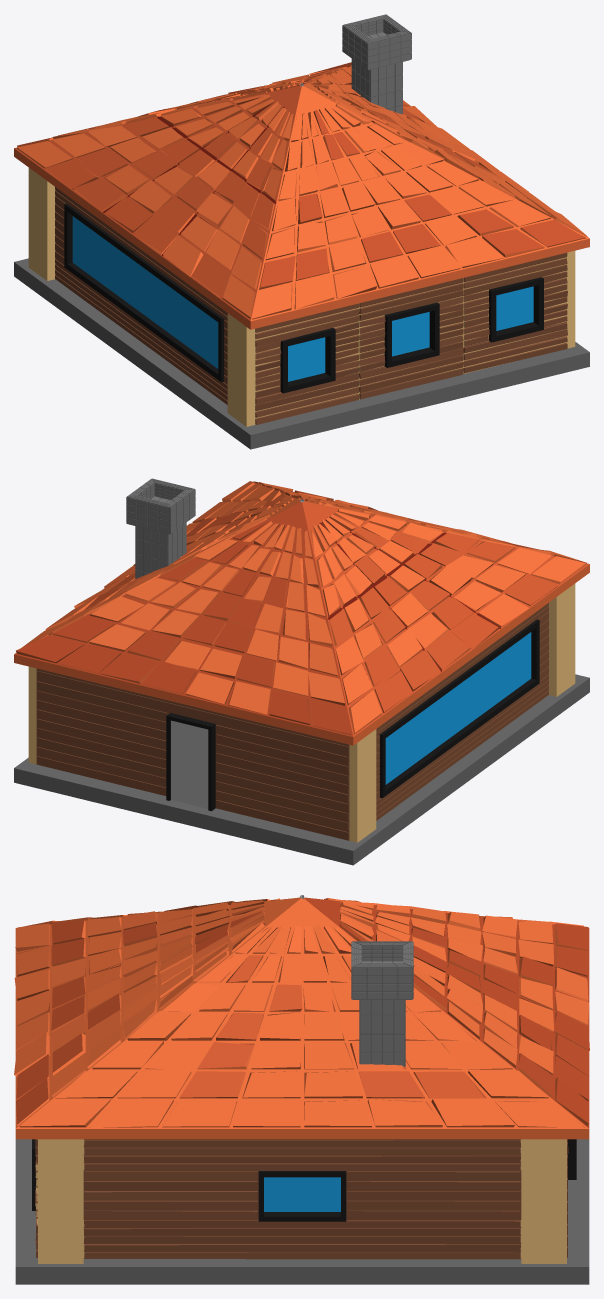
The model's file is House.fbx.
The picture shows the model from 3 angles, top to bottom: view 1: azimuth 30°, elevation 25°; view 2: azimuth 150°, elevation 25°; view 3: azimuth 270°, elevation 25°; orthographic projection. The views are drawn at different scales.
Visible parts, largest first — view 1: Roof, Wall3, Wall2, Ground, Chimney, EntryWall; view 2: Roof, EntryWall, Wall2, Ground, Chimney, Wall3; view 3: Roof, Wall1, Ground, Chimney, Wall3, EntryWall.
Boxes of the visible parts, x1=… form: Roof: x1=14, y1=62, x2=589, y2=329; Wall3: x1=227, y1=251, x2=575, y2=426; Wall2: x1=55, y1=187, x2=227, y2=404; Ground: x1=14, y1=258, x2=589, y2=449; Chimney: x1=342, y1=14, x2=411, y2=114; EntryWall: x1=28, y1=168, x2=55, y2=280; Roof: x1=14, y1=481, x2=589, y2=745; EntryWall: x1=28, y1=666, x2=376, y2=842; Wall2: x1=376, y1=603, x2=548, y2=820; Ground: x1=14, y1=674, x2=589, y2=865; Chimney: x1=126, y1=478, x2=195, y2=578; Wall3: x1=548, y1=583, x2=575, y2=696; Roof: x1=14, y1=895, x2=589, y2=1139; Wall1: x1=83, y1=1139, x2=521, y2=1259; Ground: x1=15, y1=1139, x2=589, y2=1284; Chimney: x1=351, y1=941, x2=413, y2=1066; Wall3: x1=32, y1=1139, x2=83, y2=1263; EntryWall: x1=521, y1=1139, x2=576, y2=1263.
Size of the model in its own units: 2102 by 1430 by 2538.
